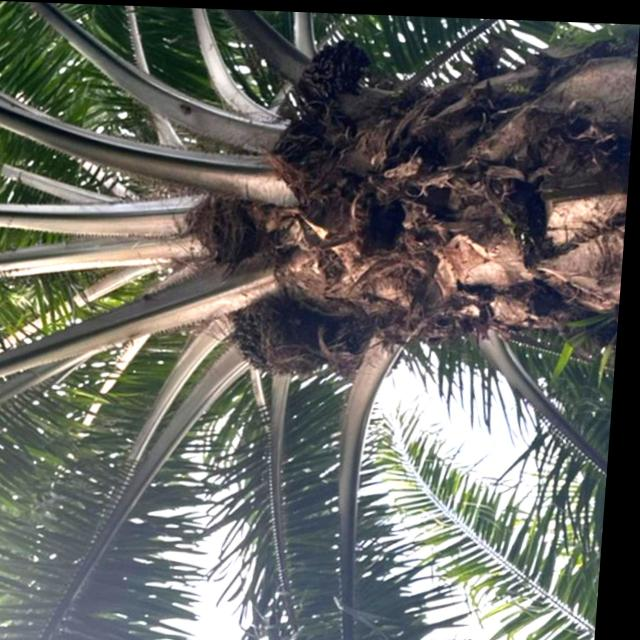unripe: (223, 290, 343, 385), (292, 34, 374, 110)
